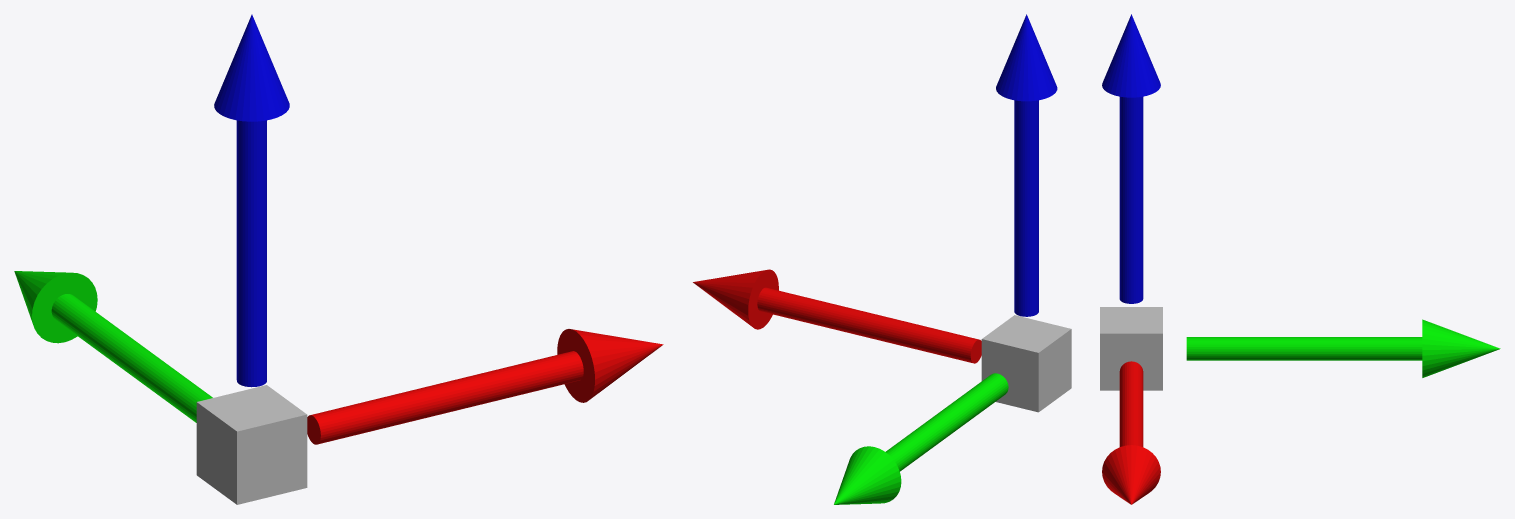
File: XYZGadget.fbx
The picture shows the model from 3 angles, left to right: view 1: azimuth 30°, elevation 25°; view 2: azimuth 150°, elevation 25°; view 3: azimuth 270°, elevation 25°; orthographic projection. The views are drawn at different scales.
Parts seen in each view (by area): view 1: XYZgadget; view 2: XYZgadget; view 3: XYZgadget.
Part boxes in pixels (x1=…): XYZgadget: x1=14, y1=14, x2=663, y2=504; XYZgadget: x1=693, y1=14, x2=1071, y2=504; XYZgadget: x1=1100, y1=14, x2=1500, y2=504.
Size of the model in its own units: 128 by 128 by 128.
